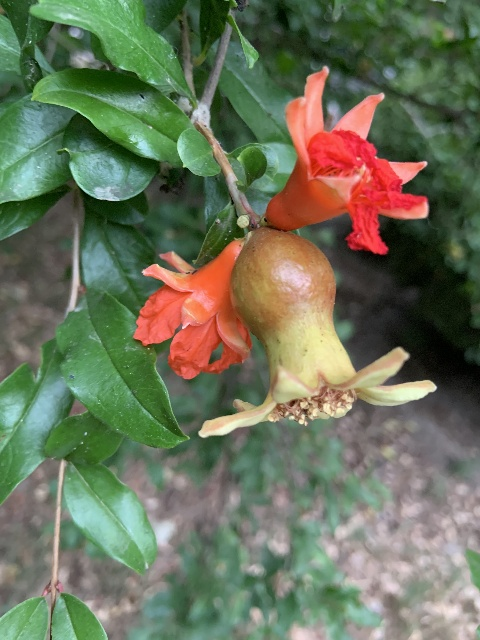early-fruit: (197, 228, 438, 437)
flower: (266, 64, 429, 254), (133, 238, 252, 380)
